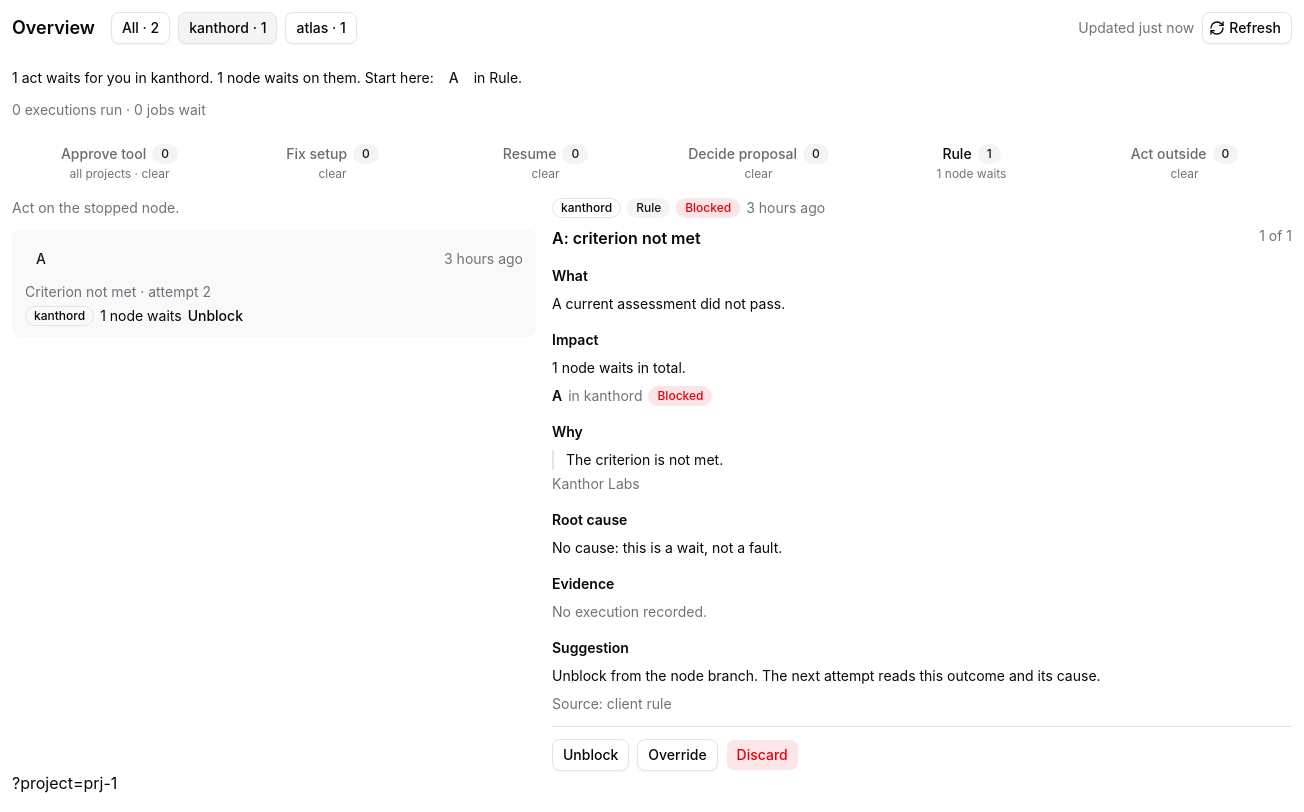
Test case: OverviewScreen scope › returns to All on a press of the pressed item
Click the button "kanthord · 1" at (228, 28), box x1=178 y1=12 x2=277 y2=44
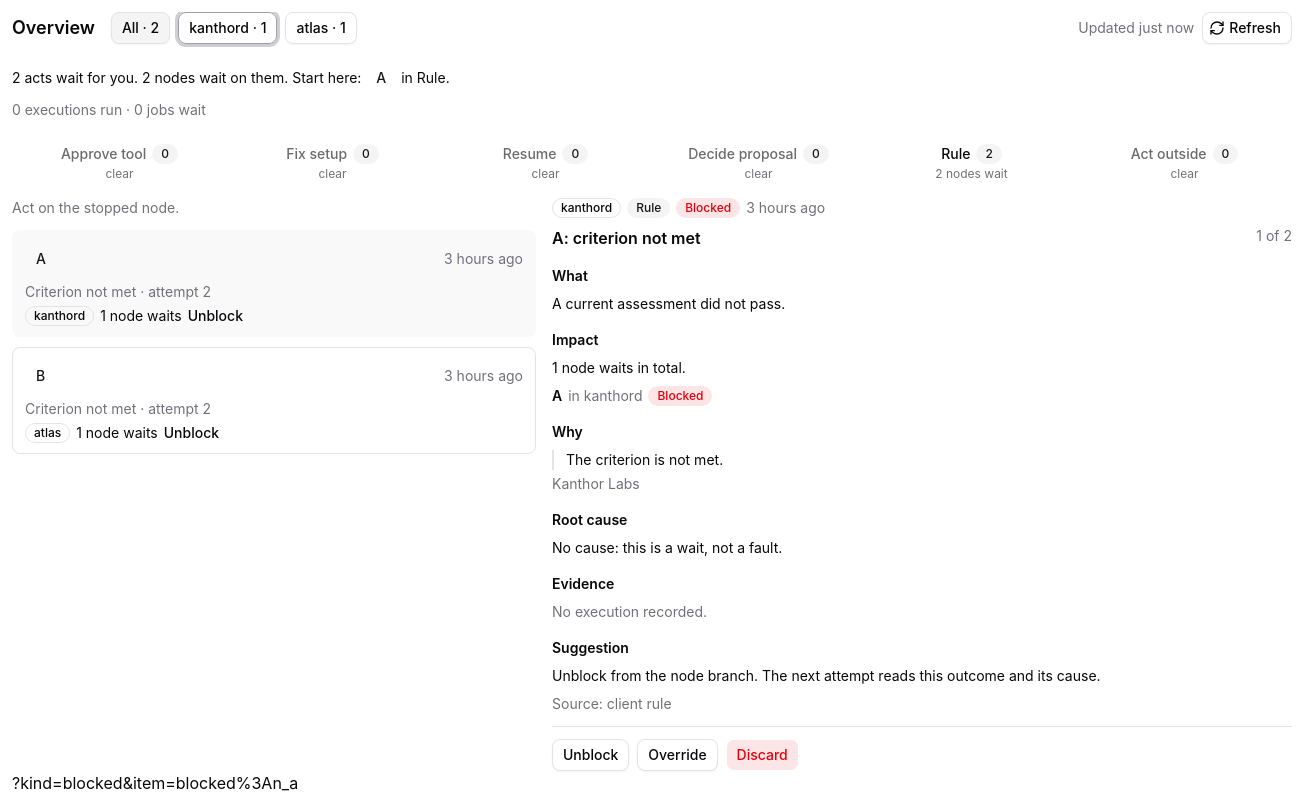
Expected: the button "B" is shown, x1=25 y1=358 x2=56 y2=394
